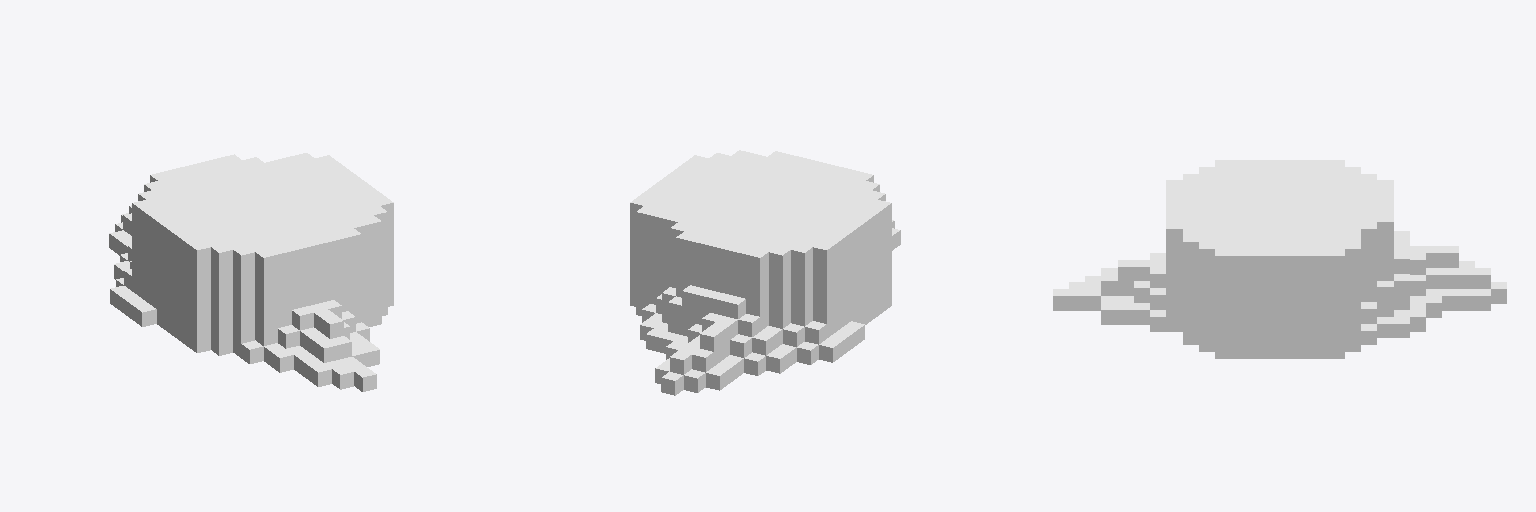
File: log2.vox.obj
The picture shows the model from 3 angles: view 1: azimuth 30°, elevation 25°; view 2: azimuth 150°, elevation 25°; view 3: azimuth 270°, elevation 25°; orthographic projection.
Visible parts, largest first — view 1: object 1; view 2: object 1; view 3: object 1.
Boxes of the visible parts, x1,y1,x2,y2 form: object 1: [109, 153, 393, 391]; object 1: [630, 150, 900, 395]; object 1: [1053, 160, 1506, 358].
Size of the model in its own units: 1.5 by 0.7 by 2.8.